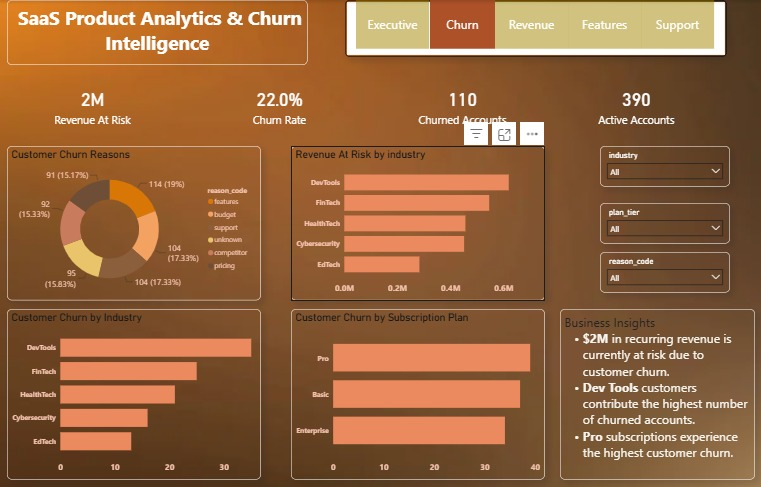

What the dashboard file says about the page in this screenshot:
{"tool":"powerbi","page":{"name":"Churn Deep Dive","canvas":[1500,965],"ordinal":1},"visuals":[{"type":"card","fields":{"Values":["DAX_Measures.Revenue At Risk"]},"box":[0,144,368,128],"z":1000},{"type":"card","fields":{"Values":["DAX_Measures.Churn Rate"]},"box":[368,144,368,128],"z":2000},{"type":"card","fields":{"Values":["DAX_Measures.Churned Accounts"]},"box":[736,144,352,128],"z":3000},{"type":"card","fields":{"Values":["DAX_Measures.Active Accounts"]},"box":[1088,144,336,128],"z":4000},{"type":"donutChart","title":"Customer Churn Reasons","fields":{"Category":["churn_clean.reason_code"],"Y":["CountNonNull(churn_clean.account_id)"]},"box":[16,288,500,304],"z":5000},{"type":"clusteredBarChart","title":"Customer Churn by Industry","fields":{"Y":["DAX_Measures.Churned Accounts"],"Category":["accounts_clean.industry"]},"box":[16,608,500,336],"z":6000},{"type":"clusteredBarChart","title":"Customer Churn by Subscription Plan","fields":{"Category":["accounts_clean.plan_tier"],"Y":["DAX_Measures.Churned Accounts"]},"box":[576,608,500,336],"z":7000},{"type":"slicer","fields":{"Values":["accounts_clean.industry"]},"box":[1184,288,256,80],"z":8000},{"type":"slicer","fields":{"Values":["accounts_clean.plan_tier"]},"box":[1184,400,256,80],"z":9000},{"type":"slicer","fields":{"Values":["churn_clean.reason_code"]},"box":[1184,496,256,80],"z":10000},{"type":"clusteredBarChart","fields":{"Category":["accounts_clean.industry"],"Y":["DAX_Measures.Revenue At Risk"]},"box":[576,288,500,304],"z":11000},{"type":"shape","box":[681,0,752,112],"z":12000},{"type":"textbox","box":[1104,608,384,336],"z":13000},{"type":"actionButton","title":"Executive","box":[704,0,144,96],"z":14000},{"type":"actionButton","box":[848,0,128,96],"z":15000},{"type":"actionButton","box":[976,0,144,96],"z":16000},{"type":"actionButton","box":[1120,0,144,96],"z":17000},{"type":"actionButton","box":[1264,0,144,96],"z":18000},{"type":"textbox","box":[16,0,592,128],"z":19000}]}

Visuals, with their boxes in screenshot pixels (x1, y1, x2, y2), scaled from the page's 1500x965 canvas onto the 761x487 screenshot:
card - DAX_Measures.Revenue At Risk: (0,73,187,137)
card - DAX_Measures.Churn Rate: (187,73,373,137)
card - DAX_Measures.Churned Accounts: (373,73,552,137)
card - DAX_Measures.Active Accounts: (552,73,722,137)
"Customer Churn Reasons" donutChart: (8,145,262,299)
"Customer Churn by Industry" clusteredBarChart: (8,307,262,476)
"Customer Churn by Subscription Plan" clusteredBarChart: (292,307,546,476)
slicer - accounts_clean.industry: (601,145,731,186)
slicer - accounts_clean.plan_tier: (601,202,731,242)
slicer - churn_clean.reason_code: (601,250,731,291)
clusteredBarChart - accounts_clean.industry x DAX_Measures.Revenue At Risk: (292,145,546,299)
shape: (345,0,727,57)
textbox: (560,307,755,476)
"Executive" actionButton: (357,0,430,48)
actionButton: (430,0,495,48)
actionButton: (495,0,568,48)
actionButton: (568,0,641,48)
actionButton: (641,0,714,48)
textbox: (8,0,308,65)
